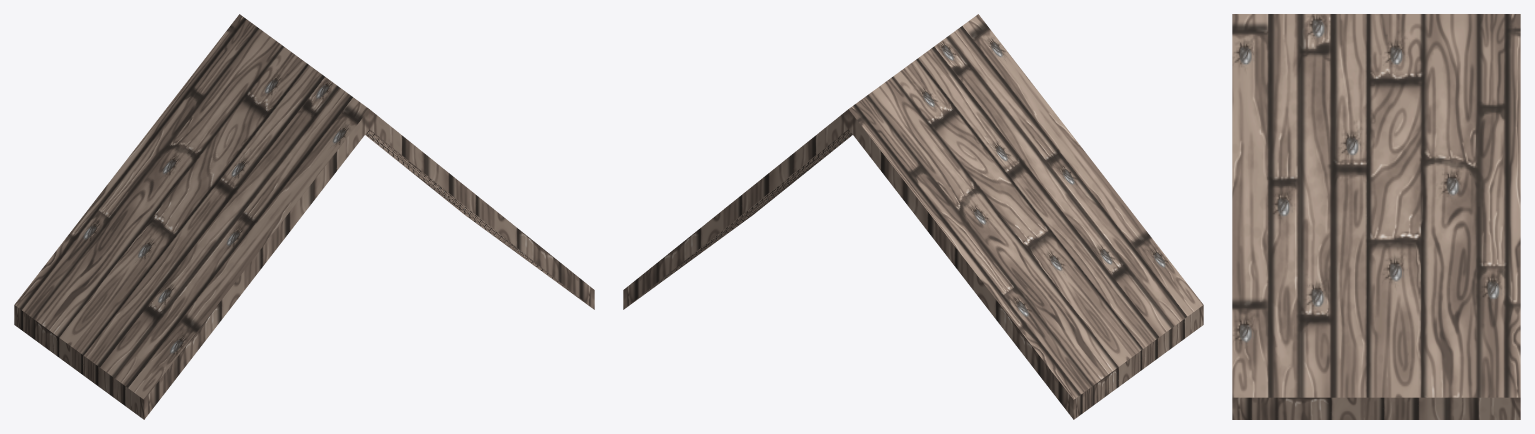
Rendered from barn_ceilingDouble.fbx.
3 views of the same model, side by side, from view 1: azimuth 30°, elevation 25°; view 2: azimuth 150°, elevation 25°; view 3: azimuth 270°, elevation 25° (orthographic). The views are drawn at different scales.
Visible parts, largest first — view 1: barn_ceilingDouble; view 2: barn_ceilingDouble; view 3: barn_ceilingDouble.
Part boxes in pixels (x1=…): barn_ceilingDouble: x1=14, y1=14, x2=594, y2=419; barn_ceilingDouble: x1=623, y1=14, x2=1203, y2=419; barn_ceilingDouble: x1=1232, y1=14, x2=1520, y2=419.
Bounding box in the file's own units: 10.01 × 5.43 × 5.
